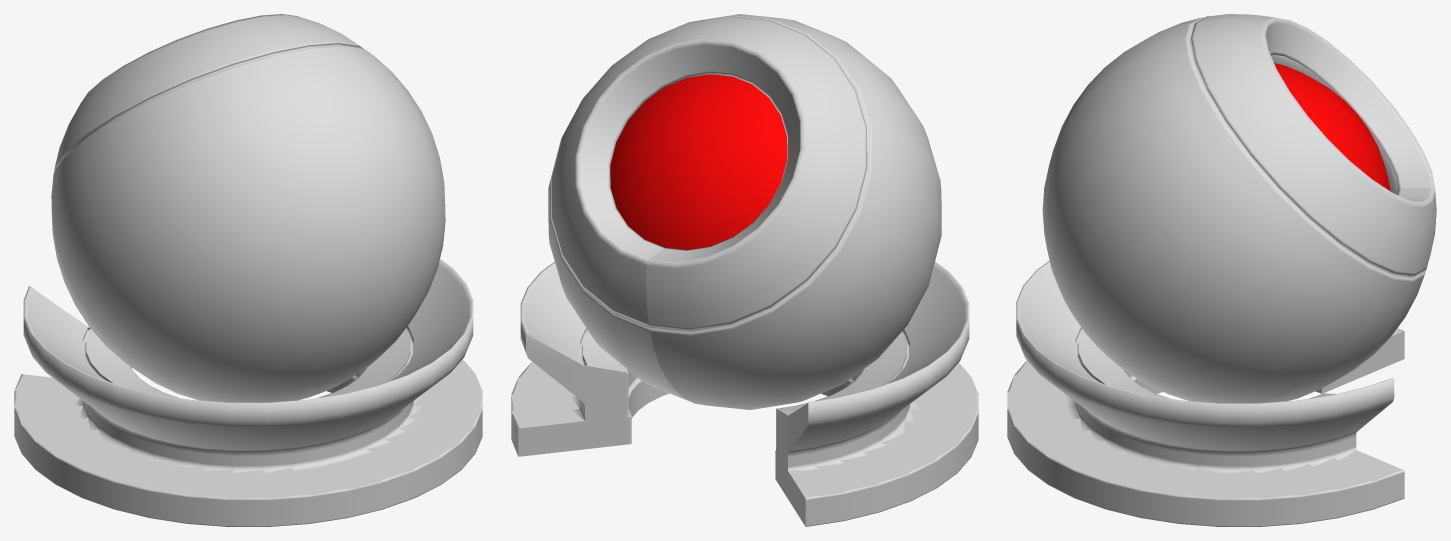
File: mori-knob.glb
3 views of the same model, side by side, from view 1: azimuth 30°, elevation 25°; view 2: azimuth 150°, elevation 25°; view 3: azimuth 270°, elevation 25° (orthographic).
Parts seen in each view (by area): view 1: OuterMat; view 2: OuterMat; view 3: OuterMat.
Boxes of the visible parts, box(x1,y1,x2,y2) form: OuterMat: box(14, 14, 482, 526); OuterMat: box(511, 14, 978, 526); OuterMat: box(1007, 14, 1436, 526).
Bounding box in the file's own units: 2.75 × 2.59 × 2.54.
